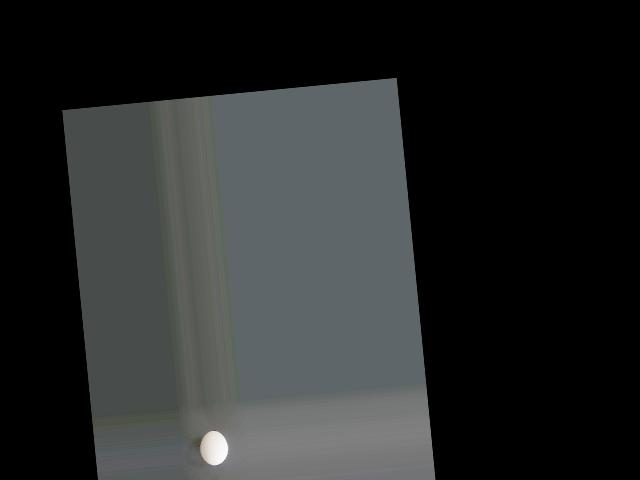egg: (198, 429, 229, 465)
